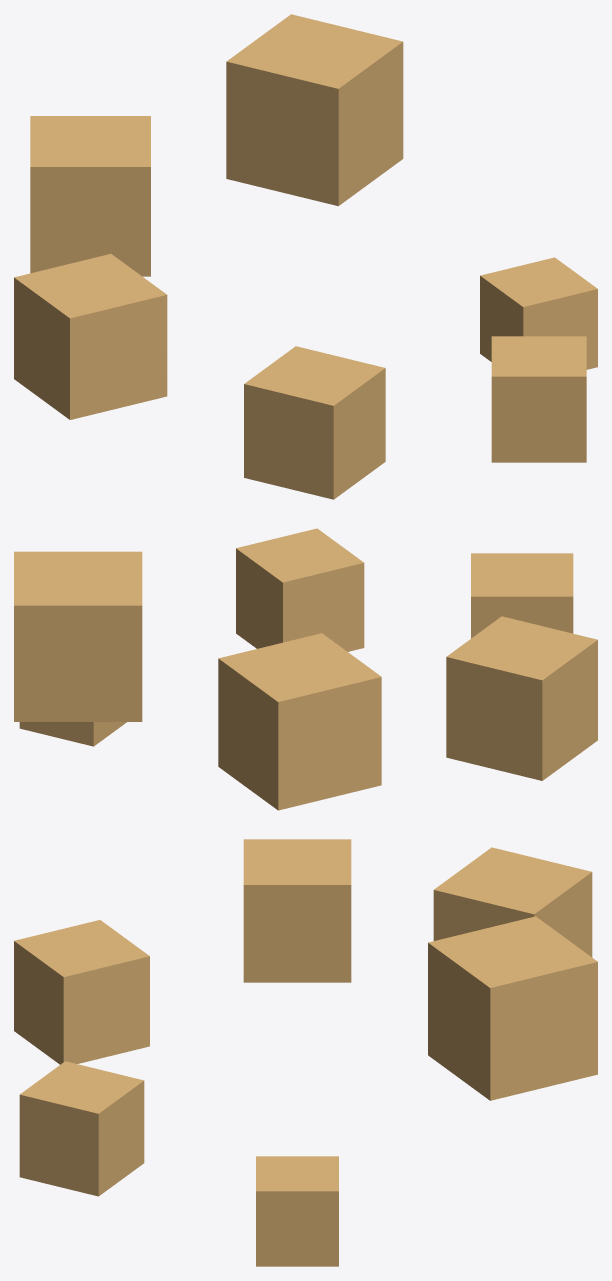
Rendered from instances_source.glb.
The picture shows the model from 3 angles, top to bottom: view 1: azimuth 30°, elevation 25°; view 2: azimuth 150°, elevation 25°; view 3: azimuth 270°, elevation 25°; orthographic projection. The views are drawn at different scales.
Size of the model in its own units: 3.58 by 1.62 by 3.52.
